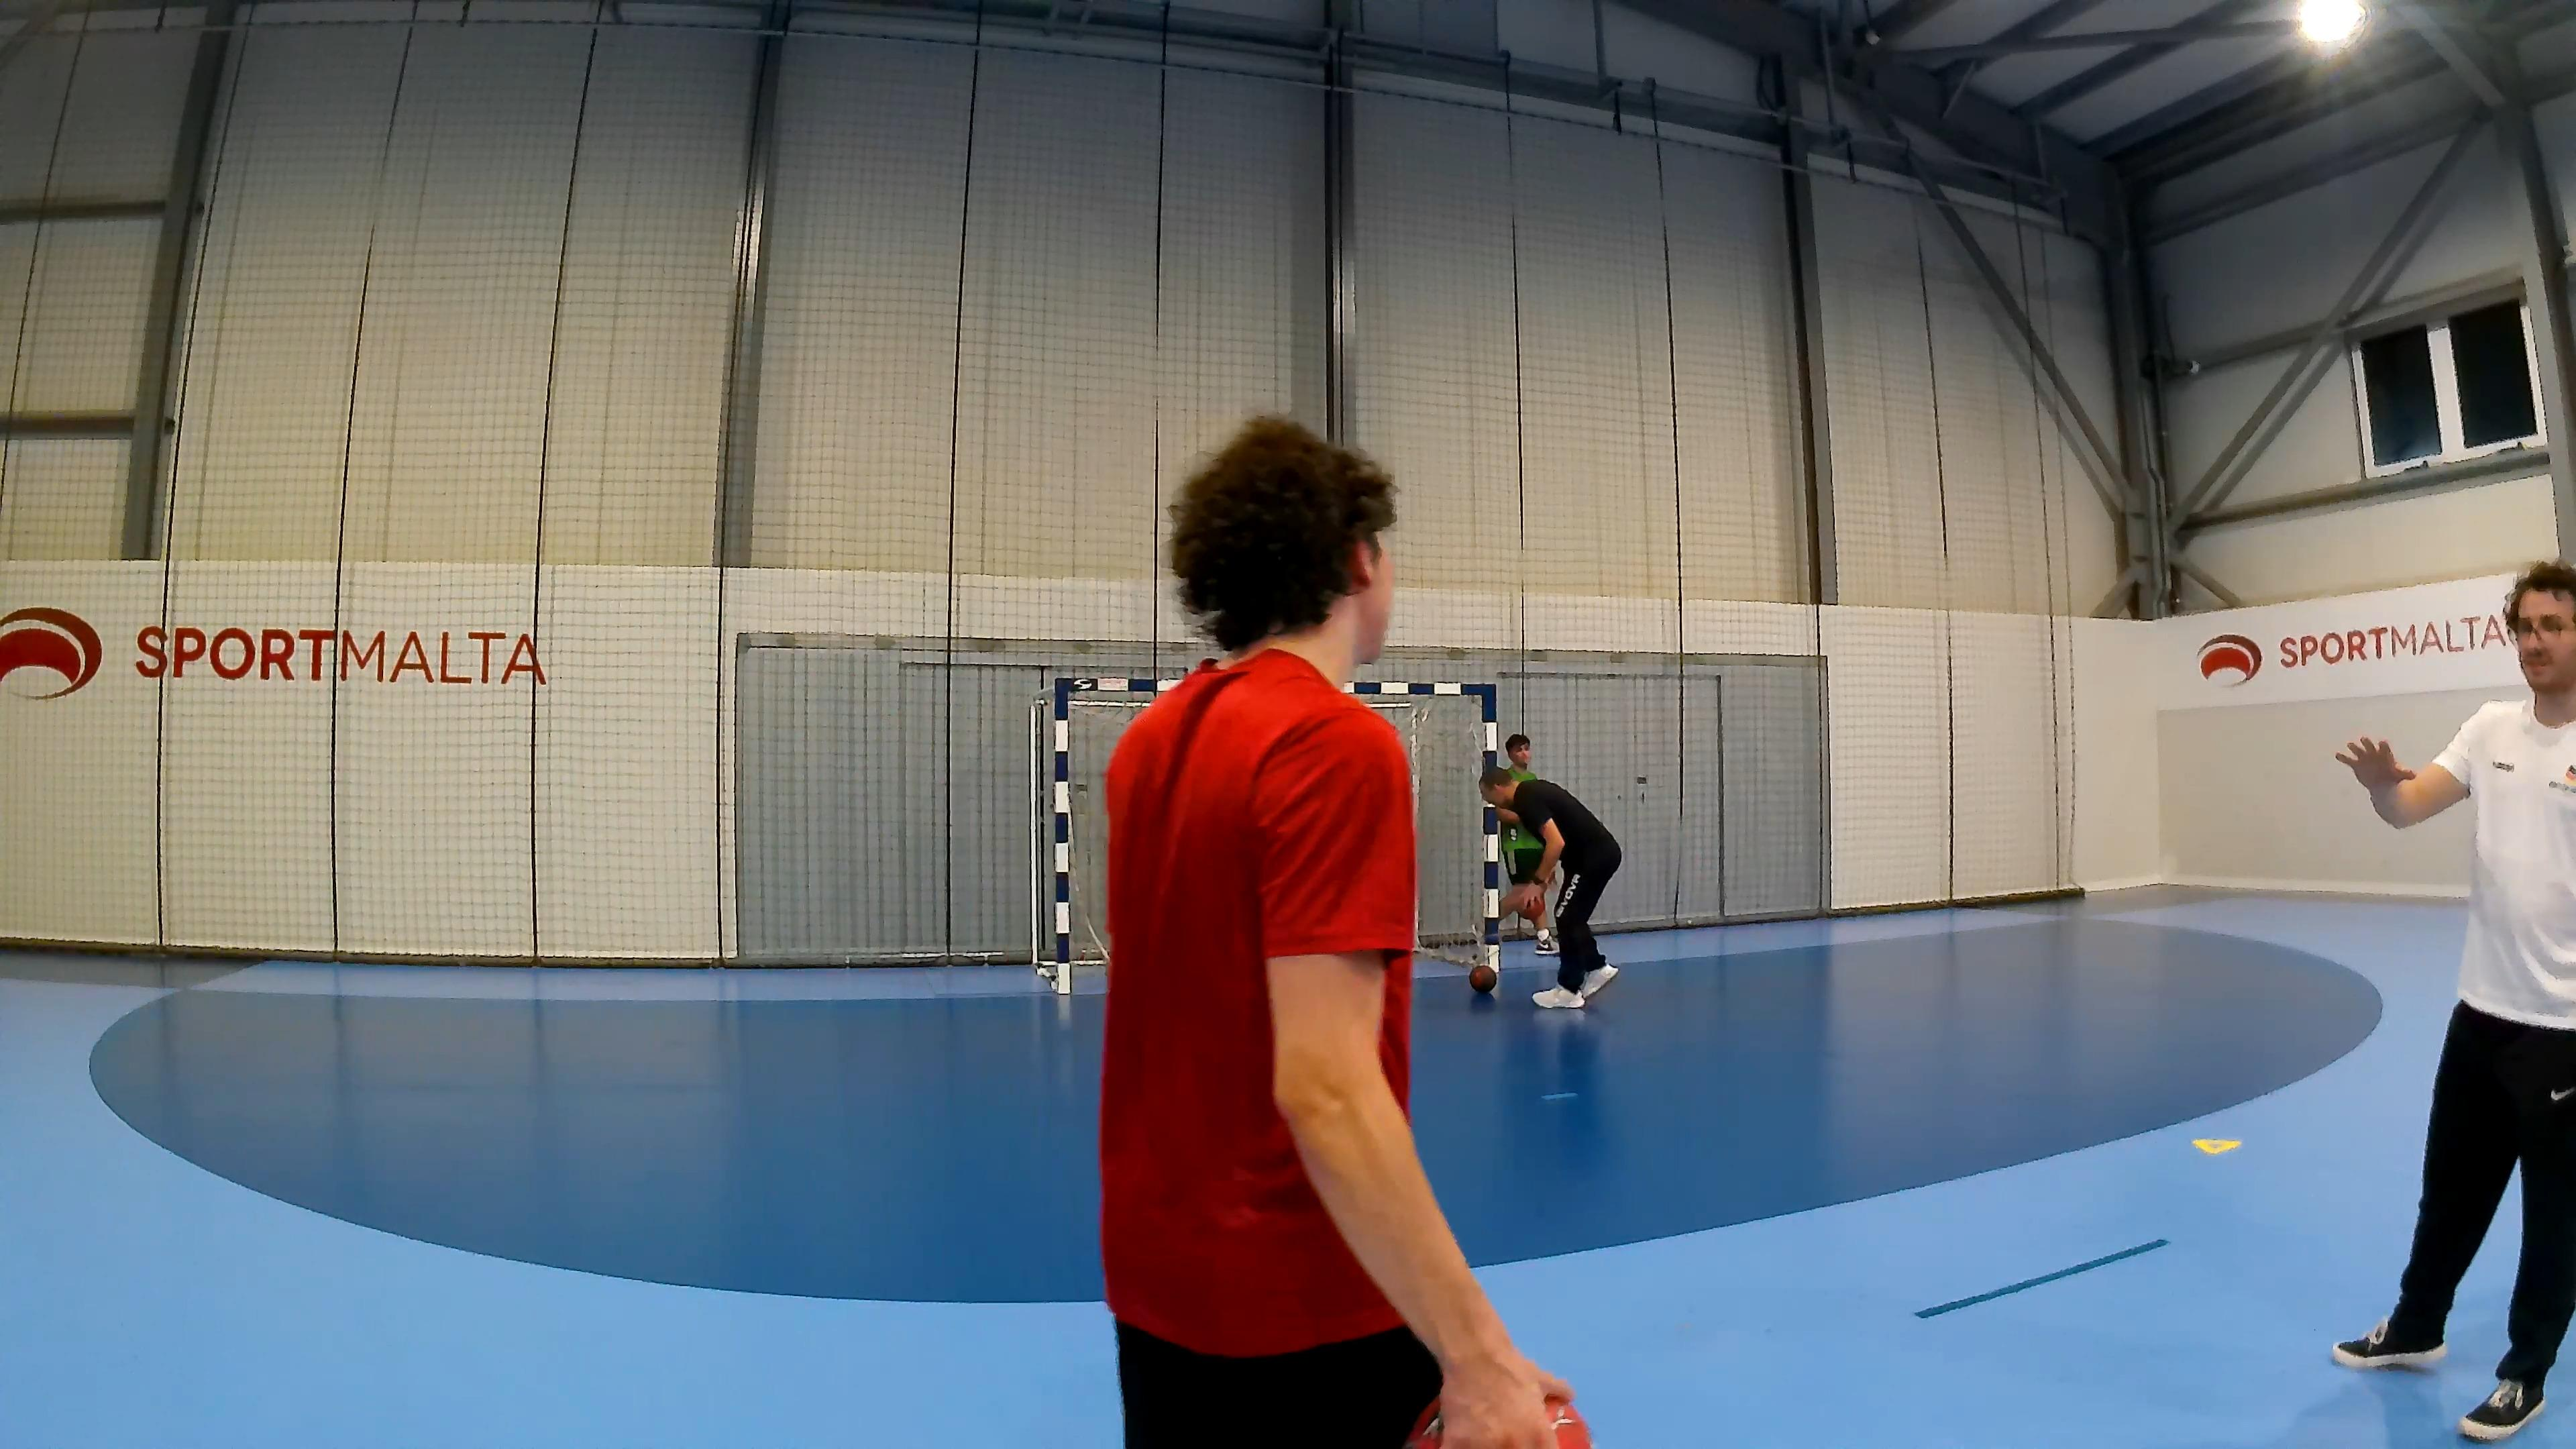handball: (1520, 883, 1552, 913), (1468, 962, 1497, 993)
